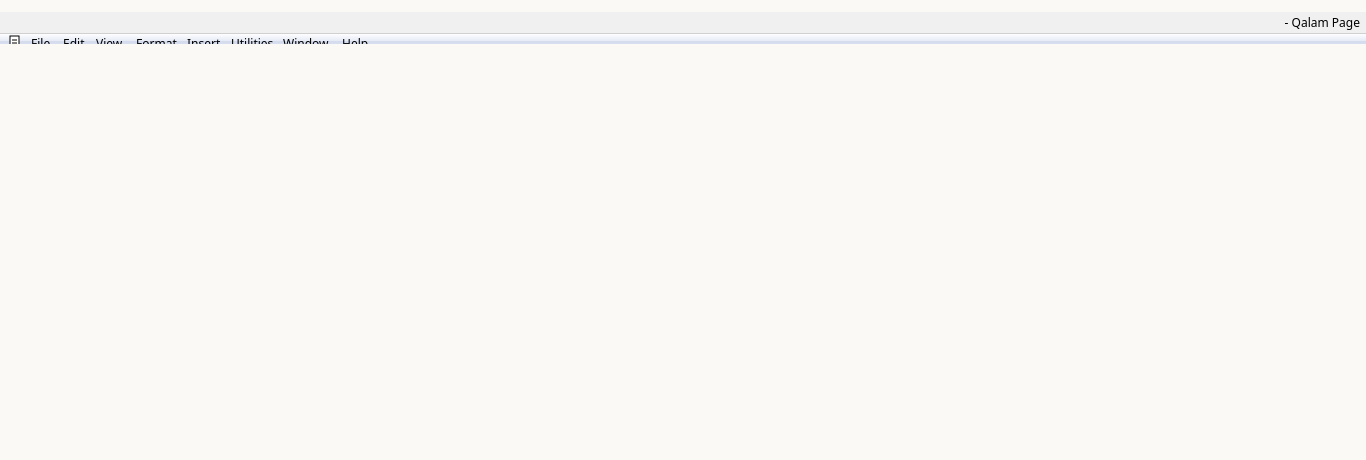
Test: DocumentMenuBar › portals the dropdown so overflow parents cannot clip it
What coordinates should you click on to do the following:
click the menu item "File"
I would click on:
 (41, 44)
Its box is [31,34,50,53].
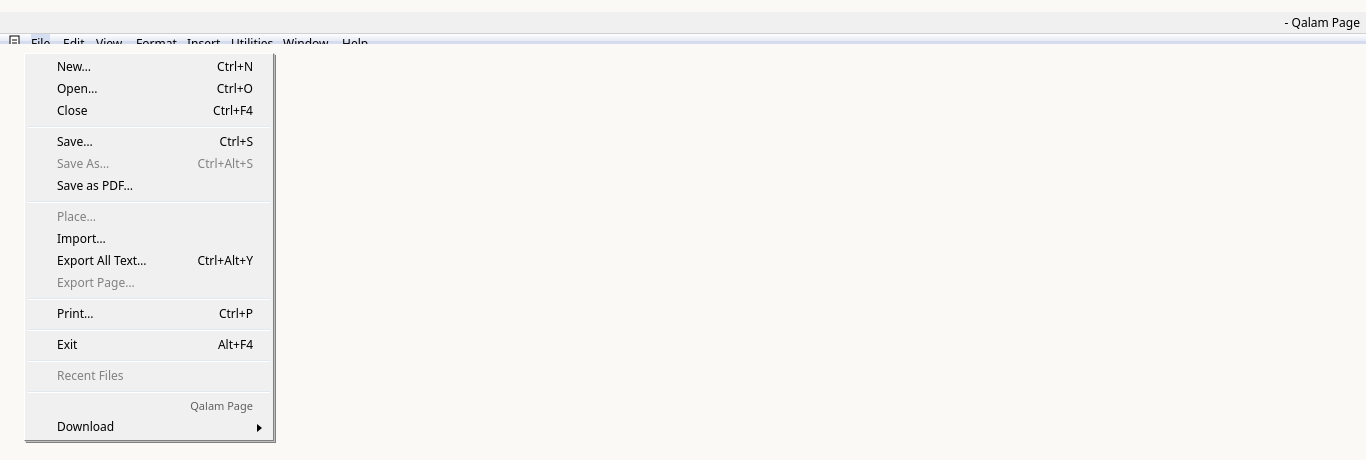
Result: the menu is shown at [24,53,274,441]
